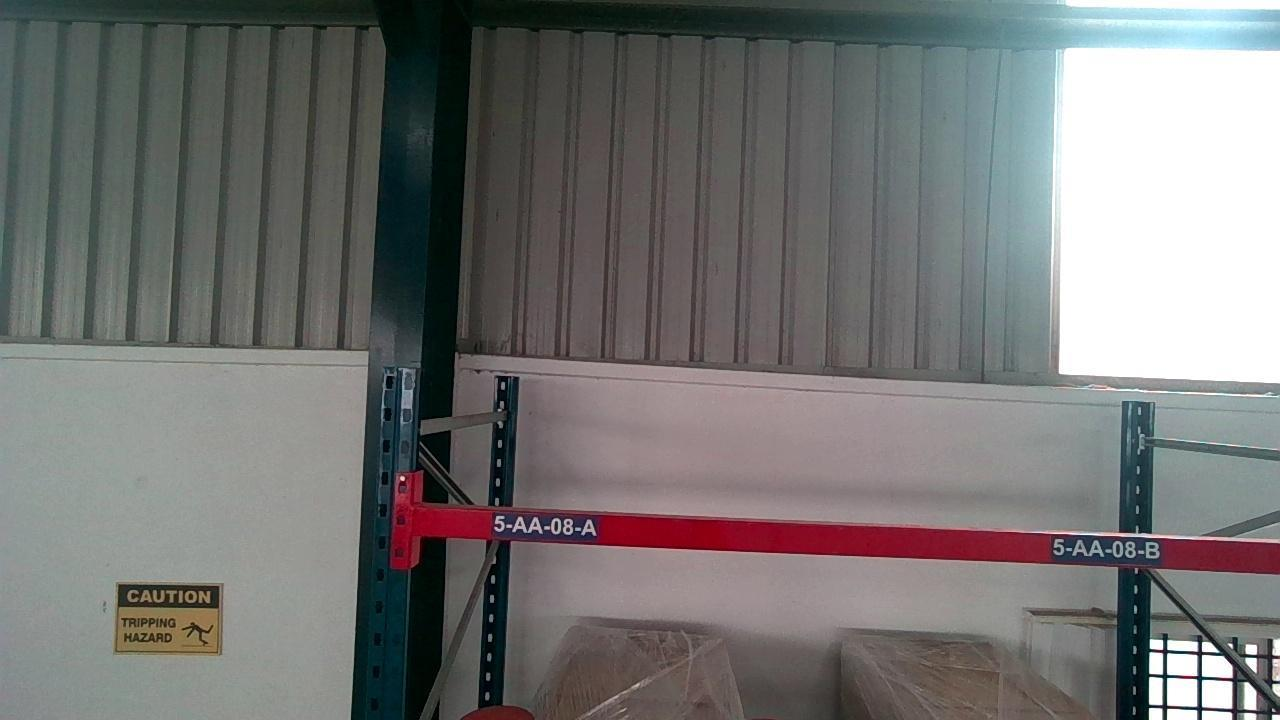h_rack: (412, 509, 1280, 569)
small_pallet: (53, 0, 1273, 212)
